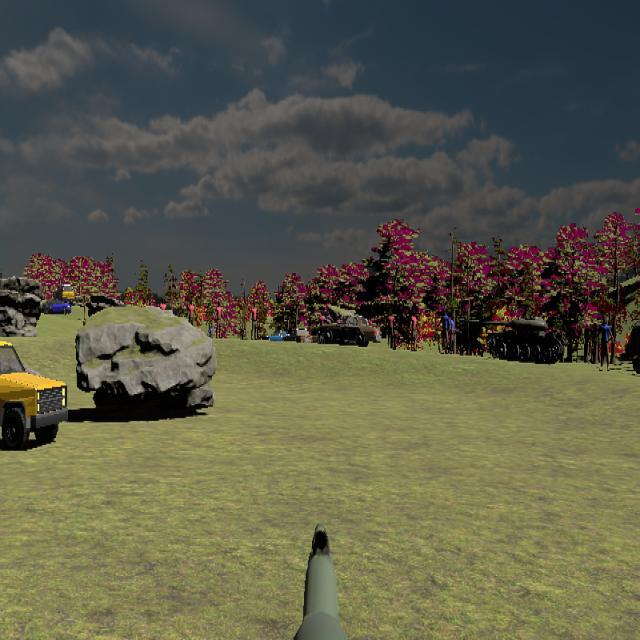Human: (594, 315, 614, 371), (247, 302, 261, 341), (212, 301, 225, 340)
Tank: (462, 314, 564, 364)
car: (0, 340, 68, 451), (626, 314, 640, 378), (57, 284, 78, 304)
